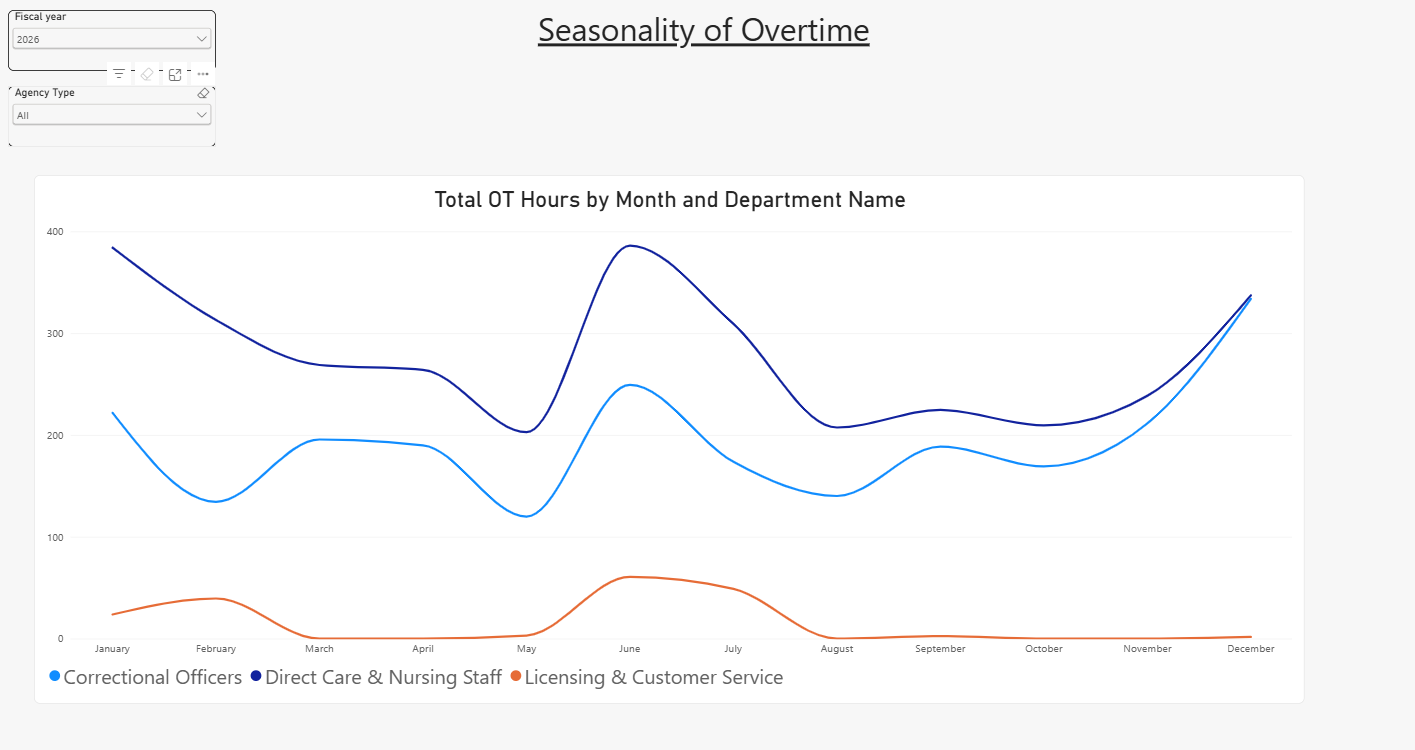

This screenshot's page, from the dashboard's own definition file:
{"tool":"powerbi","page":{"name":"Seasonality","canvas":[1920,1080],"ordinal":6},"visuals":[{"type":"slicer","fields":{"Values":["overtime_detail.Fiscal year"]},"box":[10.2,23.3,280.1,81.7],"z":0},{"type":"slicer","fields":{"Values":["agencies.Agency Type"]},"box":[10.2,125.5,280.1,81.7],"z":1000},{"type":"lineChart","fields":{"Category":["overtime_detail.Pay Period End Date.Variation.Date Hierarchy.Month"],"Series":["dept.Department Name"],"Y":["overtime_detail.Total OT Hours"]},"box":[46.1,245,1711.4,712],"z":2000},{"type":"textbox","box":[321.7,18.3,1251.7,86.7],"z":4000}]}

Visuals, with their boxes on the page's 1920x1080 design canvas (x1, y1, x2, y2). These are canvas units, not pixel positions in the 1415x750 screenshot, which may show the page scaled, cropped or inside an application window:
slicer - overtime_detail.Fiscal year: region(10, 23, 290, 105)
slicer - agencies.Agency Type: region(10, 126, 290, 207)
lineChart - overtime_detail.Pay Period End Date.Variation.Date Hierarchy.Month x dept.Department Name: region(46, 245, 1758, 957)
textbox: region(322, 18, 1573, 105)
